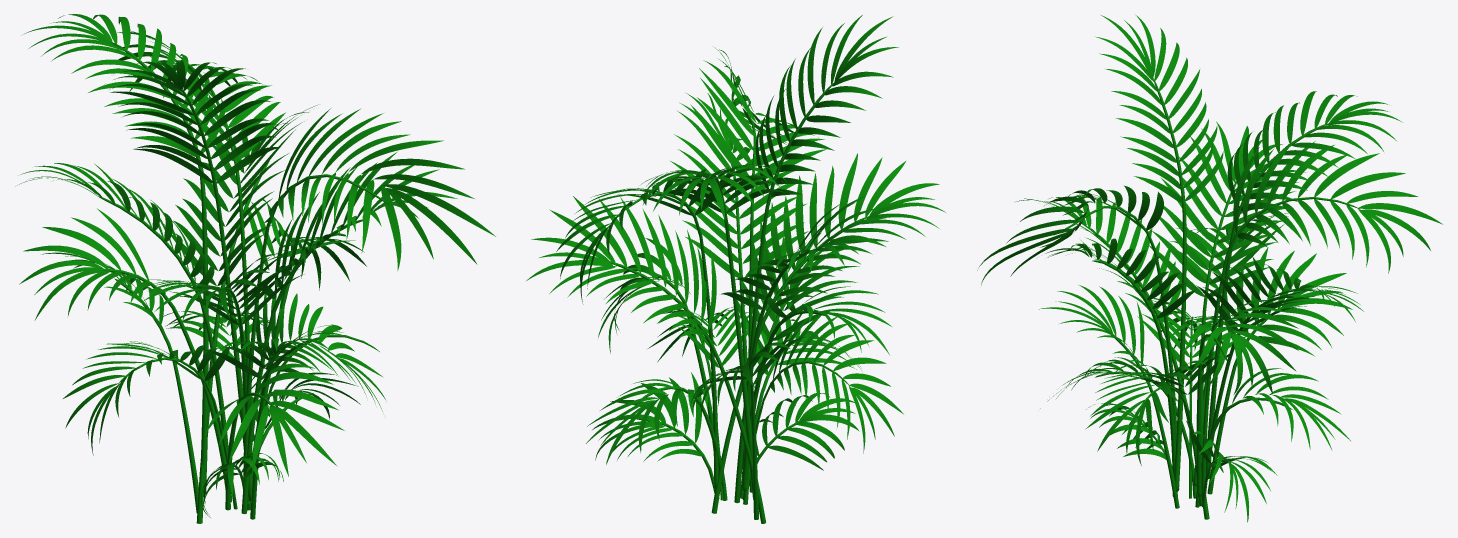
File: Palm.FBX
3 renders of one model, left to right at view 1: azimuth 30°, elevation 25°; view 2: azimuth 150°, elevation 25°; view 3: azimuth 270°, elevation 25°, orthographic. The views are drawn at different scales.
Parts seen in each view (by area): view 1: Palm caules Uvs; view 2: Palm caules Uvs; view 3: Palm caules Uvs.
Boxes of the visible parts, box(x1,y1,x2,y2) form: Palm caules Uvs: box(15, 14, 495, 523); Palm caules Uvs: box(526, 15, 945, 523); Palm caules Uvs: box(977, 15, 1442, 522).
Bounding box in the file's own units: 1.09 × 1.6 × 1.51.
